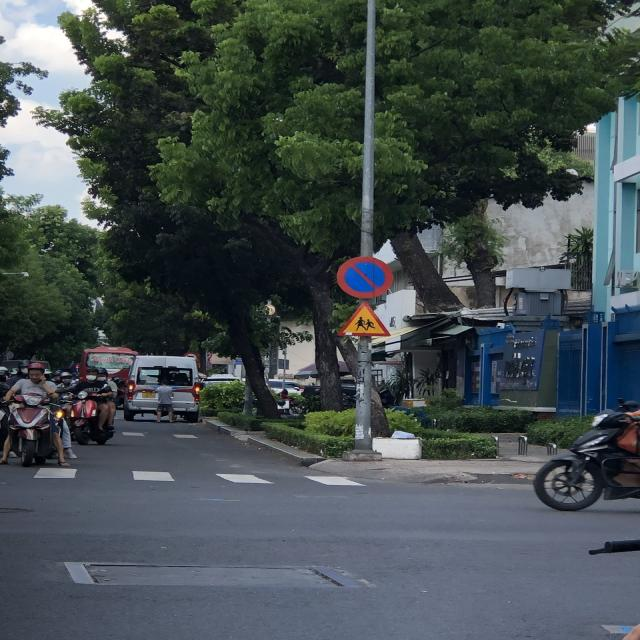Bien bao cam do xe: (335, 251, 393, 300)
Bien bao tre em: (335, 302, 395, 339)
